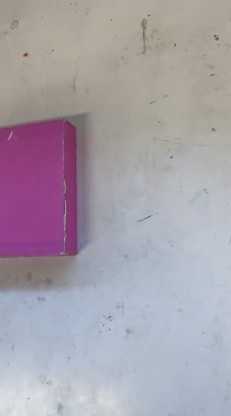pink: (0, 115, 75, 261)
